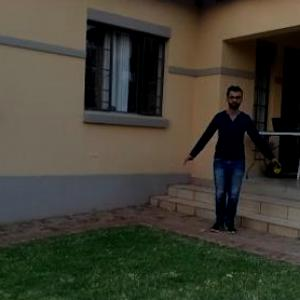land: (180, 96, 274, 245)
